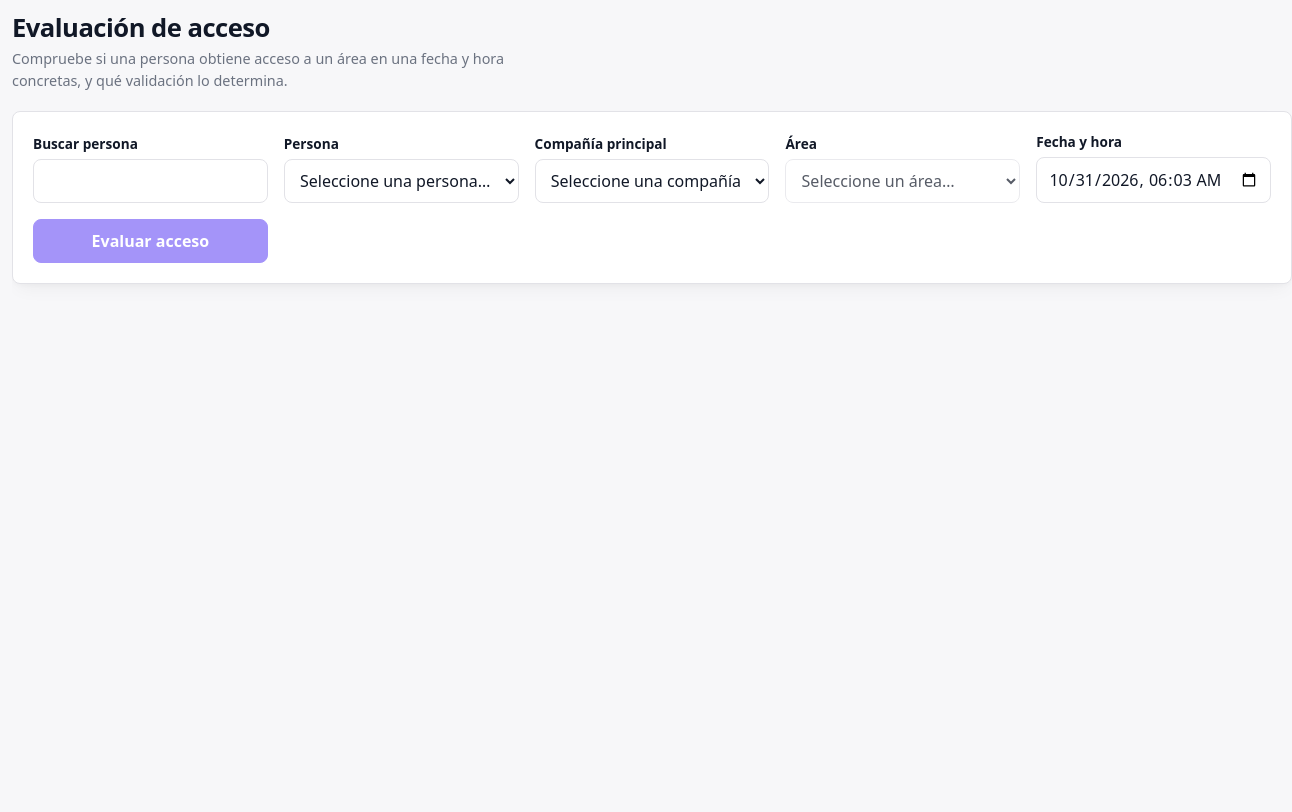
Test: EvaluacionAccesoPage › muestra un acceso concedido con el permiso y el nivel que lo determinan
Select "Pérez, Ana — 12345678" in the dropdown labelled "Persona": (401,181) [284, 159, 519, 203]
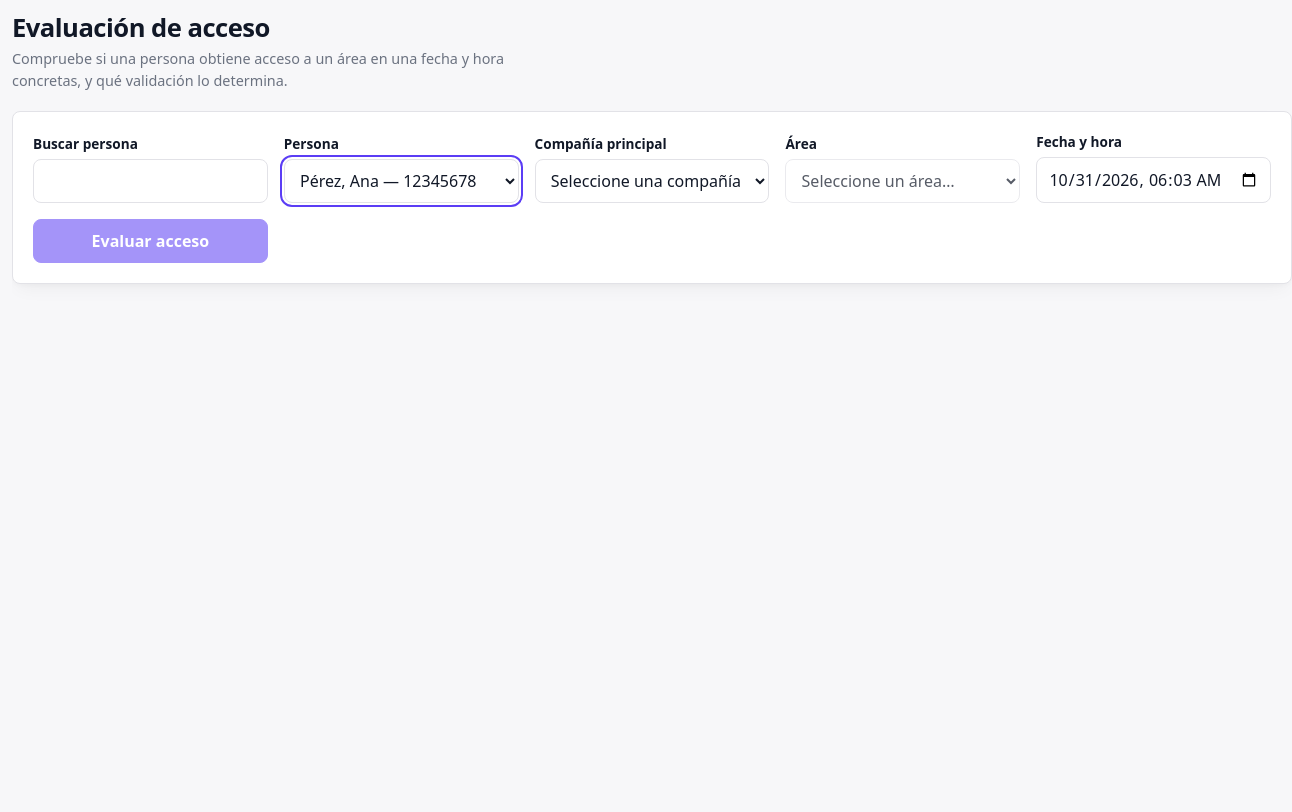
Select "Minera Norte" in the dropdown labelled "Compañía principal": (652,181) [535, 159, 769, 203]
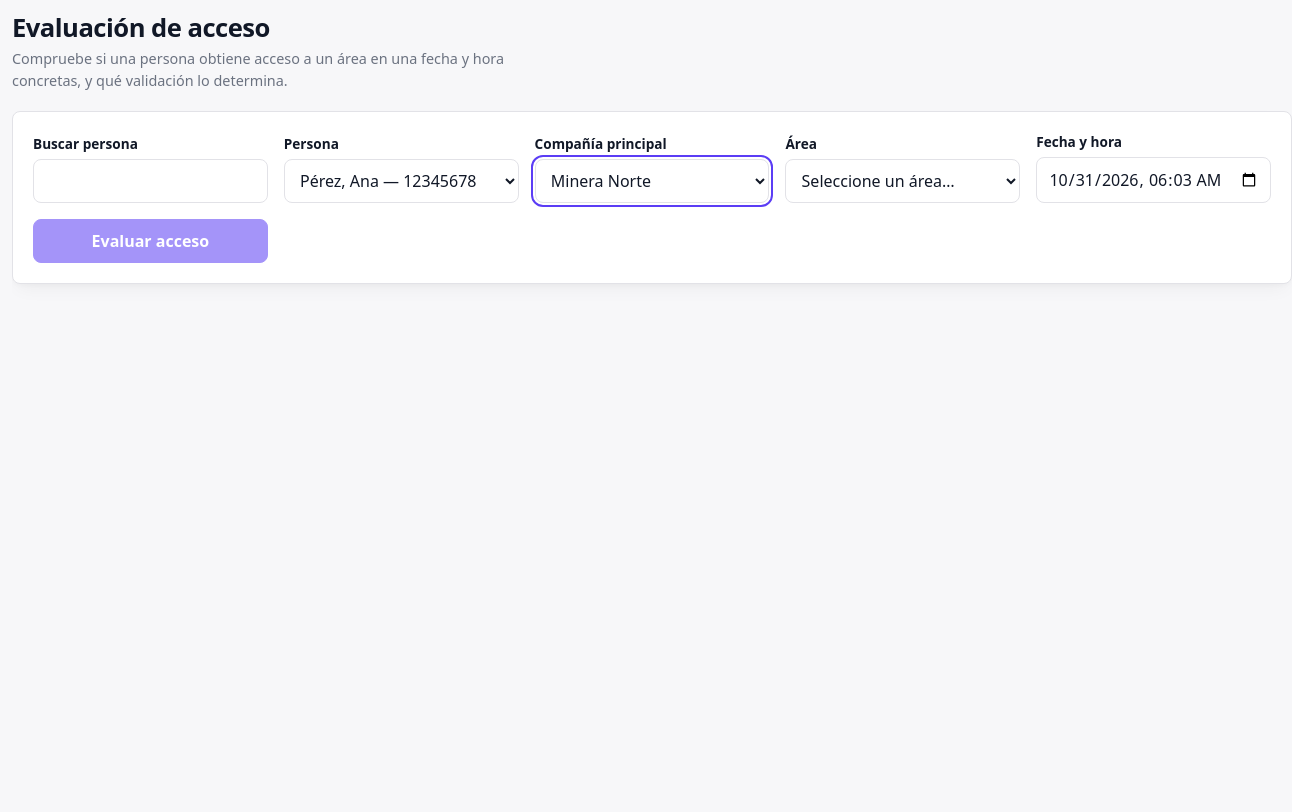
Select "Planta" in the dropdown labelled "Área": (903,181) [785, 159, 1020, 203]
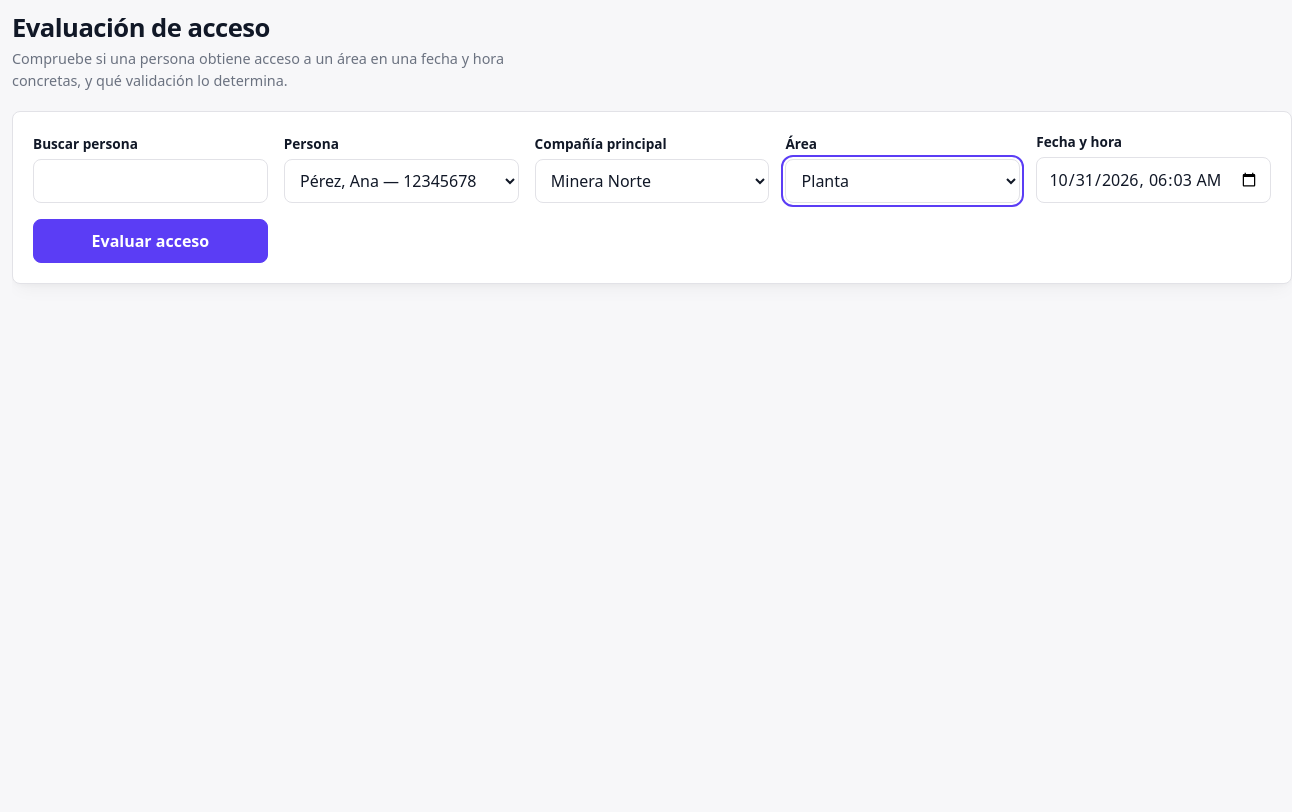
Replace the text in the field labelled "Fecha y hora" with "2026-09-16T09:00": (1154,180) [1036, 157, 1271, 203]
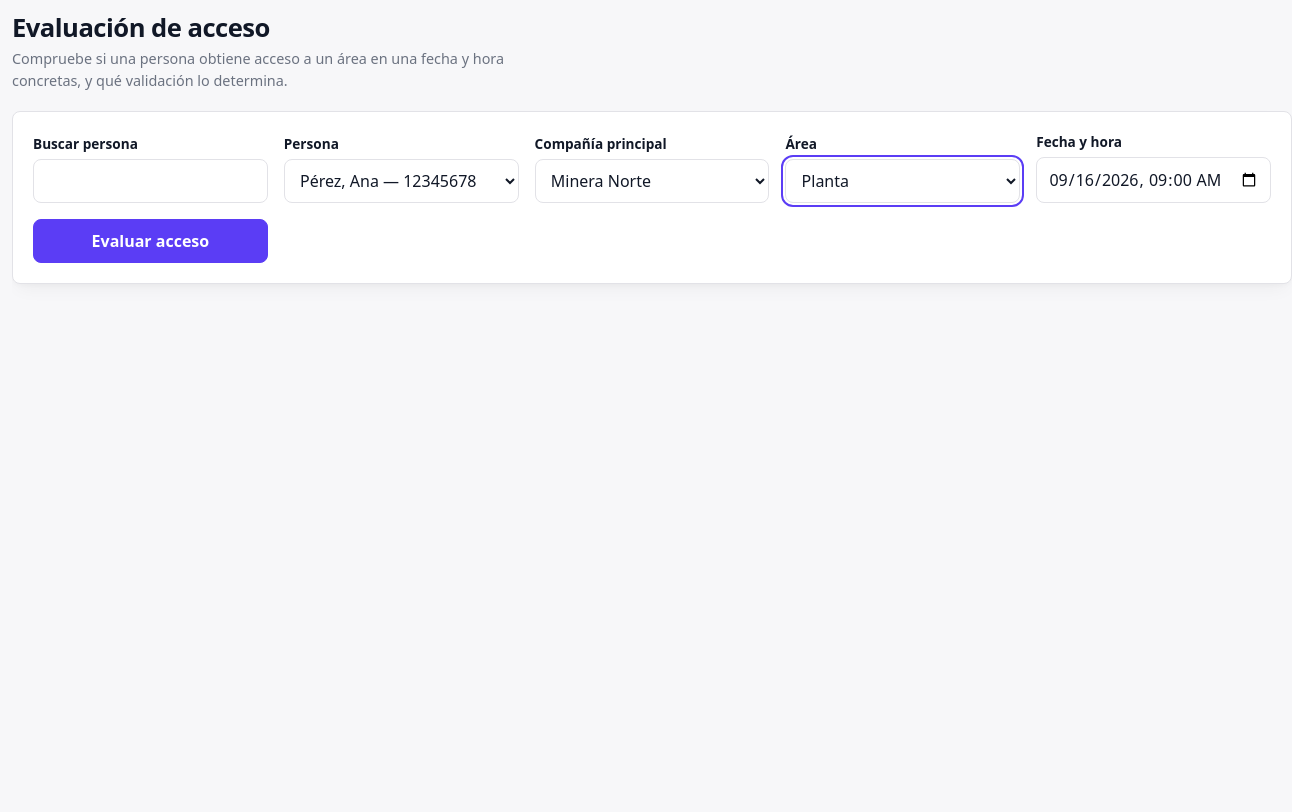
Click the button "Evaluar acceso": (150,241) [33, 219, 268, 263]
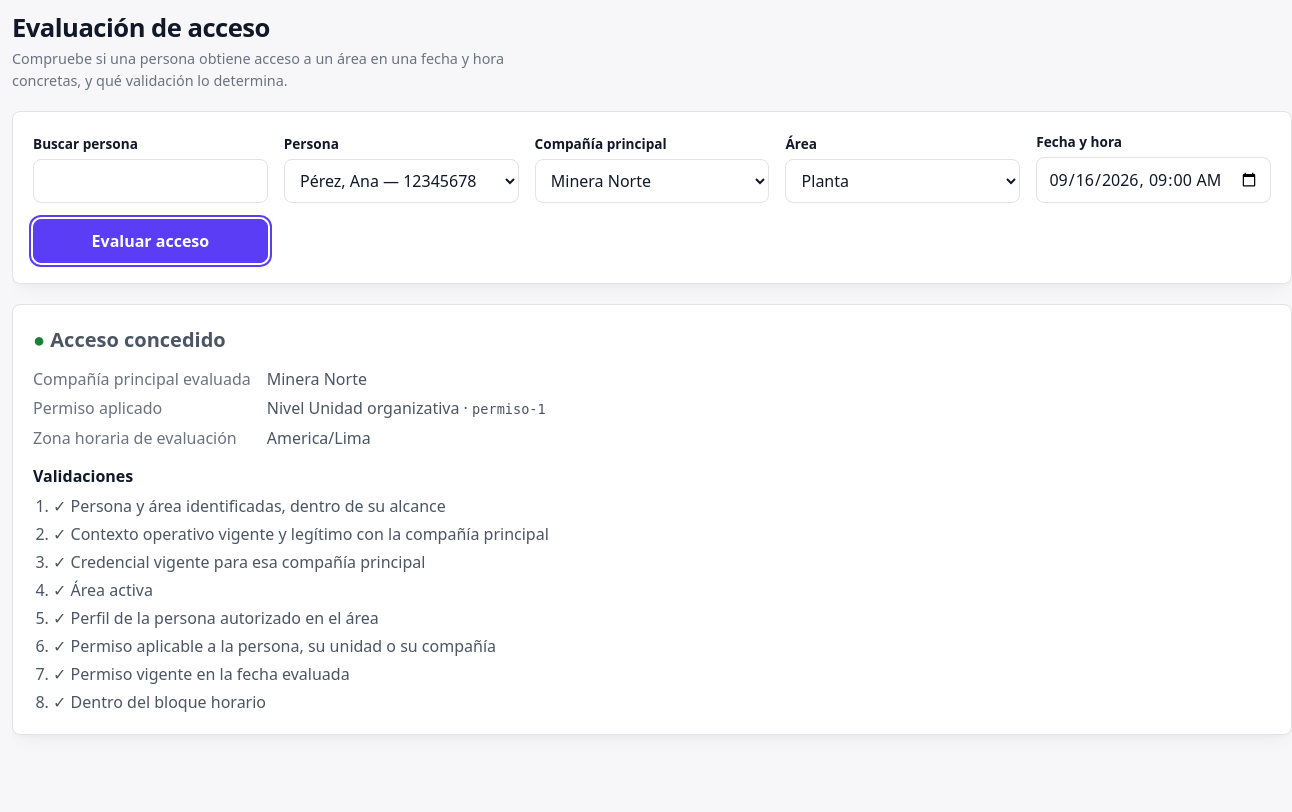
Now the text "Acceso concedido" is shown, box [50, 326, 226, 353]
Now the text "Nivel Unidad organizativa · permiso-1" is shown, box [267, 397, 546, 419]
Now the text "America/Lima" is shown, box [267, 427, 371, 449]
